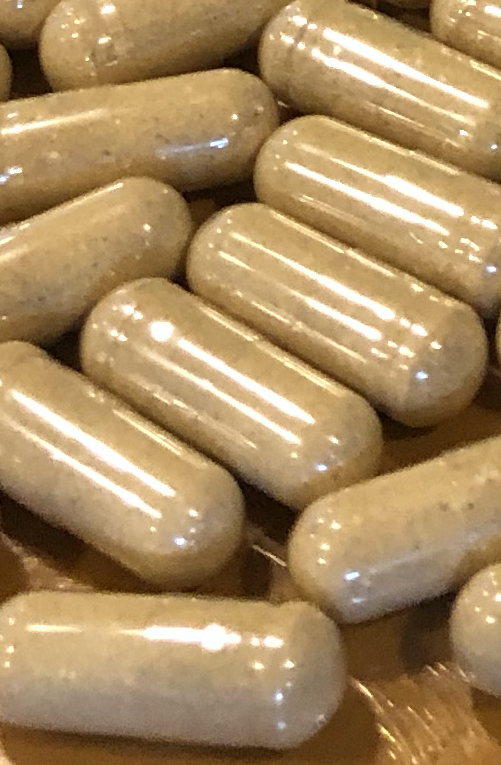capsule: (80, 278, 386, 509), (186, 202, 489, 423), (1, 333, 246, 583), (1, 591, 350, 748), (252, 116, 501, 314), (256, 2, 501, 185), (286, 430, 501, 622), (2, 68, 277, 217), (1, 176, 192, 345), (36, 1, 296, 88)
